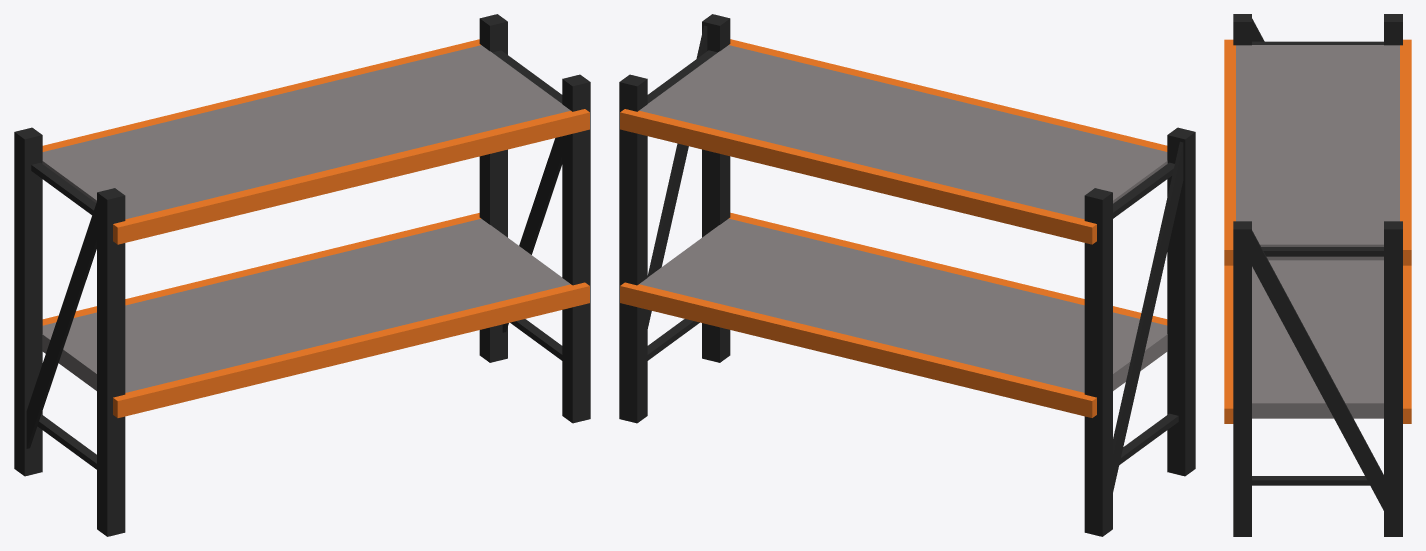
Rendered from props-storage-small-a.glb.
3 renders of one model, left to right at view 1: azimuth 30°, elevation 25°; view 2: azimuth 150°, elevation 25°; view 3: azimuth 270°, elevation 25°, orthographic. The views are drawn at different scales.
Visible parts, largest first — view 1: storage-small-a; view 2: storage-small-a; view 3: storage-small-a.
Boxes of the visible parts, left/top/right/bottom form: storage-small-a: left=14, top=14, right=590, bottom=536; storage-small-a: left=619, top=14, right=1195, bottom=536; storage-small-a: left=1224, top=14, right=1411, bottom=536.
Bounding box in the file's own units: 1.5 × 1 × 0.552.
